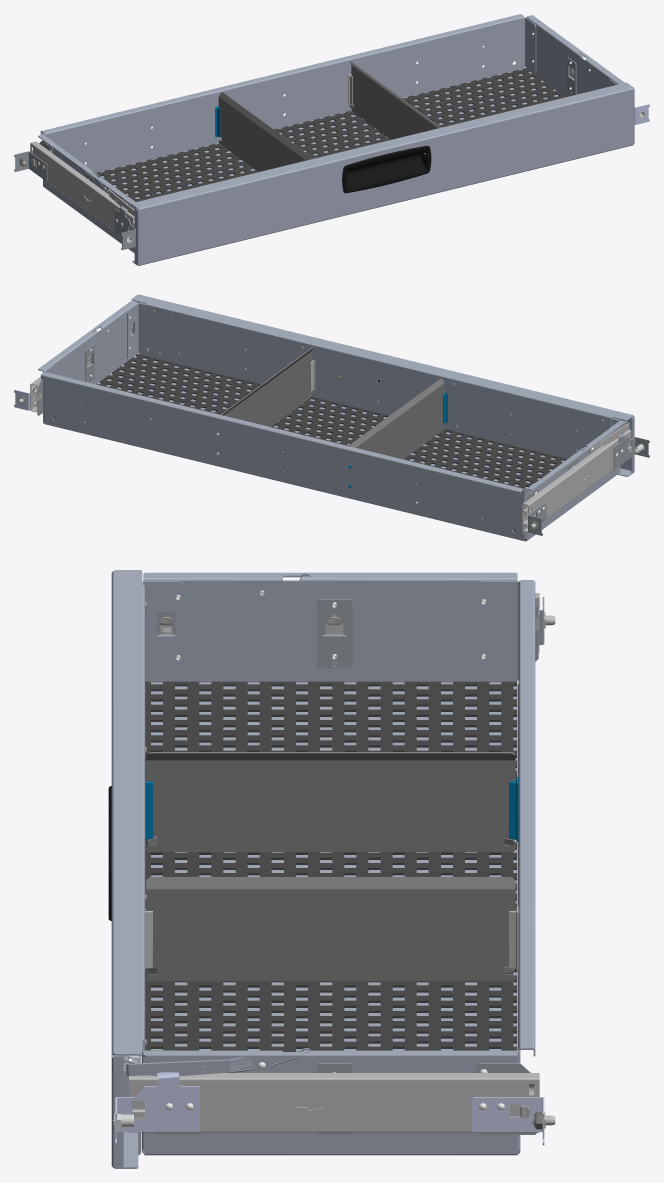
File: KDW40336.glb
The picture shows the model from 3 angles, top to bottom: view 1: azimuth 30°, elevation 25°; view 2: azimuth 150°, elevation 25°; view 3: azimuth 270°, elevation 25°; orthographic projection. The views are drawn at different scales.
Visible parts, largest first — view 1: A-XDW40336CRP-1/A-XDW40336CRP-1, A-XDW40300FRN-2, TAC-35-1, ZDD00336-1, ZDD00336-3, HPH00003-1, ADF_ZSL00036X0003-2/ZSL00036SXSUP-1, YAD00100PS01-1/YAD00100PS01-2, YAD00100PS02-1/YAD00100PS02-2; view 2: A-XDW40336CRP-1/A-XDW40336CRP-1, TAC-35-1, A-XDW40300FRN-2, ZDD00336-1, ZDD00336-3, ADF_ZSL00036X0003-2/ZSL00036SXSUP-1, YAD00100PS01-1/YAD00100PS01-2, YAD00100PS02-1/YAD00100PS02-2; view 3: A-XDW40336CRP-1/A-XDW40336CRP-1, TAC-35-1, ZDD00336-3, ZDD00336-1, ADF_ZSL00036X0004-1/ZSL00036DXSUP-1, A-XDW40300FRN-2, YAD00100PS03-1/YAD00100PS03-1, YAD00100PS04-1/YAD00100PS04-1, A-XDW40336CRP-1/A-XDW00000PST-6, XDW40000AST-1/XDW00000GND-1.
Part boxes in pixels (x1,y1,x2,y2): A-XDW40336CRP-1/A-XDW40336CRP-1: (38, 14, 624, 253); A-XDW40300FRN-2: (131, 82, 634, 265); TAC-35-1: (96, 68, 565, 201); ZDD00336-1: (218, 92, 313, 171); ZDD00336-3: (349, 61, 440, 139); HPH00003-1: (342, 145, 431, 193); ADF_ZSL00036X0003-2/ZSL00036SXSUP-1: (30, 141, 134, 230); YAD00100PS01-1/YAD00100PS01-2: (114, 206, 135, 250); YAD00100PS02-1/YAD00100PS02-2: (14, 151, 47, 181); A-XDW40336CRP-1/A-XDW40336CRP-1: (38, 301, 625, 541); TAC-35-1: (53, 354, 566, 540); A-XDW40300FRN-2: (131, 294, 634, 476); ZDD00336-1: (349, 378, 444, 459); ZDD00336-3: (221, 347, 313, 426); ADF_ZSL00036X0003-2/ZSL00036SXSUP-1: (523, 429, 631, 532); YAD00100PS01-1/YAD00100PS01-2: (613, 433, 649, 468); YAD00100PS02-1/YAD00100PS02-2: (528, 502, 546, 535); A-XDW40336CRP-1/A-XDW40336CRP-1: (123, 572, 535, 1155); TAC-35-1: (145, 681, 516, 1051); ZDD00336-3: (146, 877, 515, 981); ZDD00336-1: (146, 752, 515, 851); ADF_ZSL00036X0004-1/ZSL00036DXSUP-1: (129, 1073, 539, 1132); A-XDW40300FRN-2: (111, 570, 145, 1168); YAD00100PS03-1/YAD00100PS03-1: (115, 1072, 199, 1145); YAD00100PS04-1/YAD00100PS04-1: (472, 1097, 544, 1145); A-XDW40336CRP-1/A-XDW00000PST-6: (316, 599, 352, 668); XDW40000AST-1/XDW00000GND-1: (126, 1055, 270, 1076).
Size of the model in its own units: 1.01 by 0.1063 by 0.3698.
